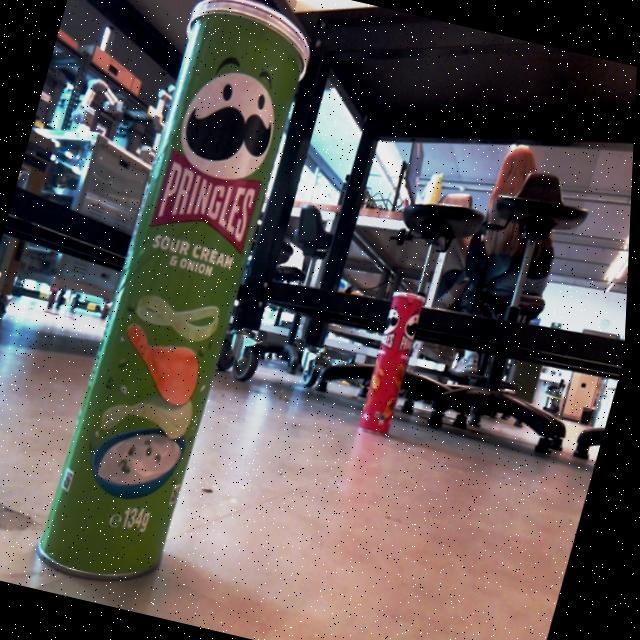greenpringles: (14, 0, 347, 614)
redpringles: (338, 266, 448, 454)
